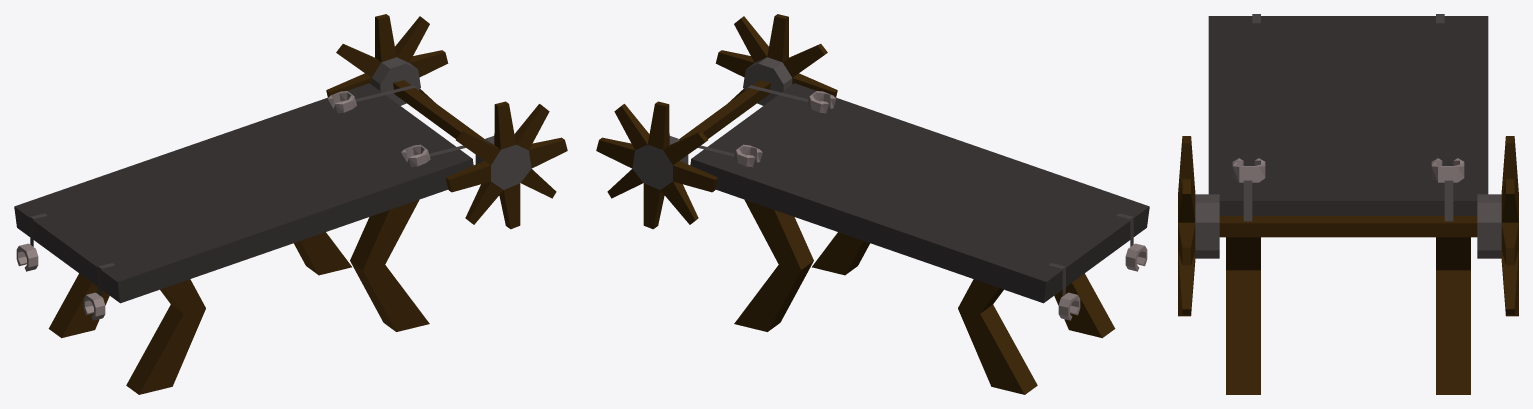
Rendered from obj_rack_0.obj.
3 renders of one model, left to right at view 1: azimuth 30°, elevation 25°; view 2: azimuth 150°, elevation 25°; view 3: azimuth 270°, elevation 25°, orthographic. The views are drawn at different scales.
Size of the model in its own units: 2.52 by 1.16 by 1.22.
